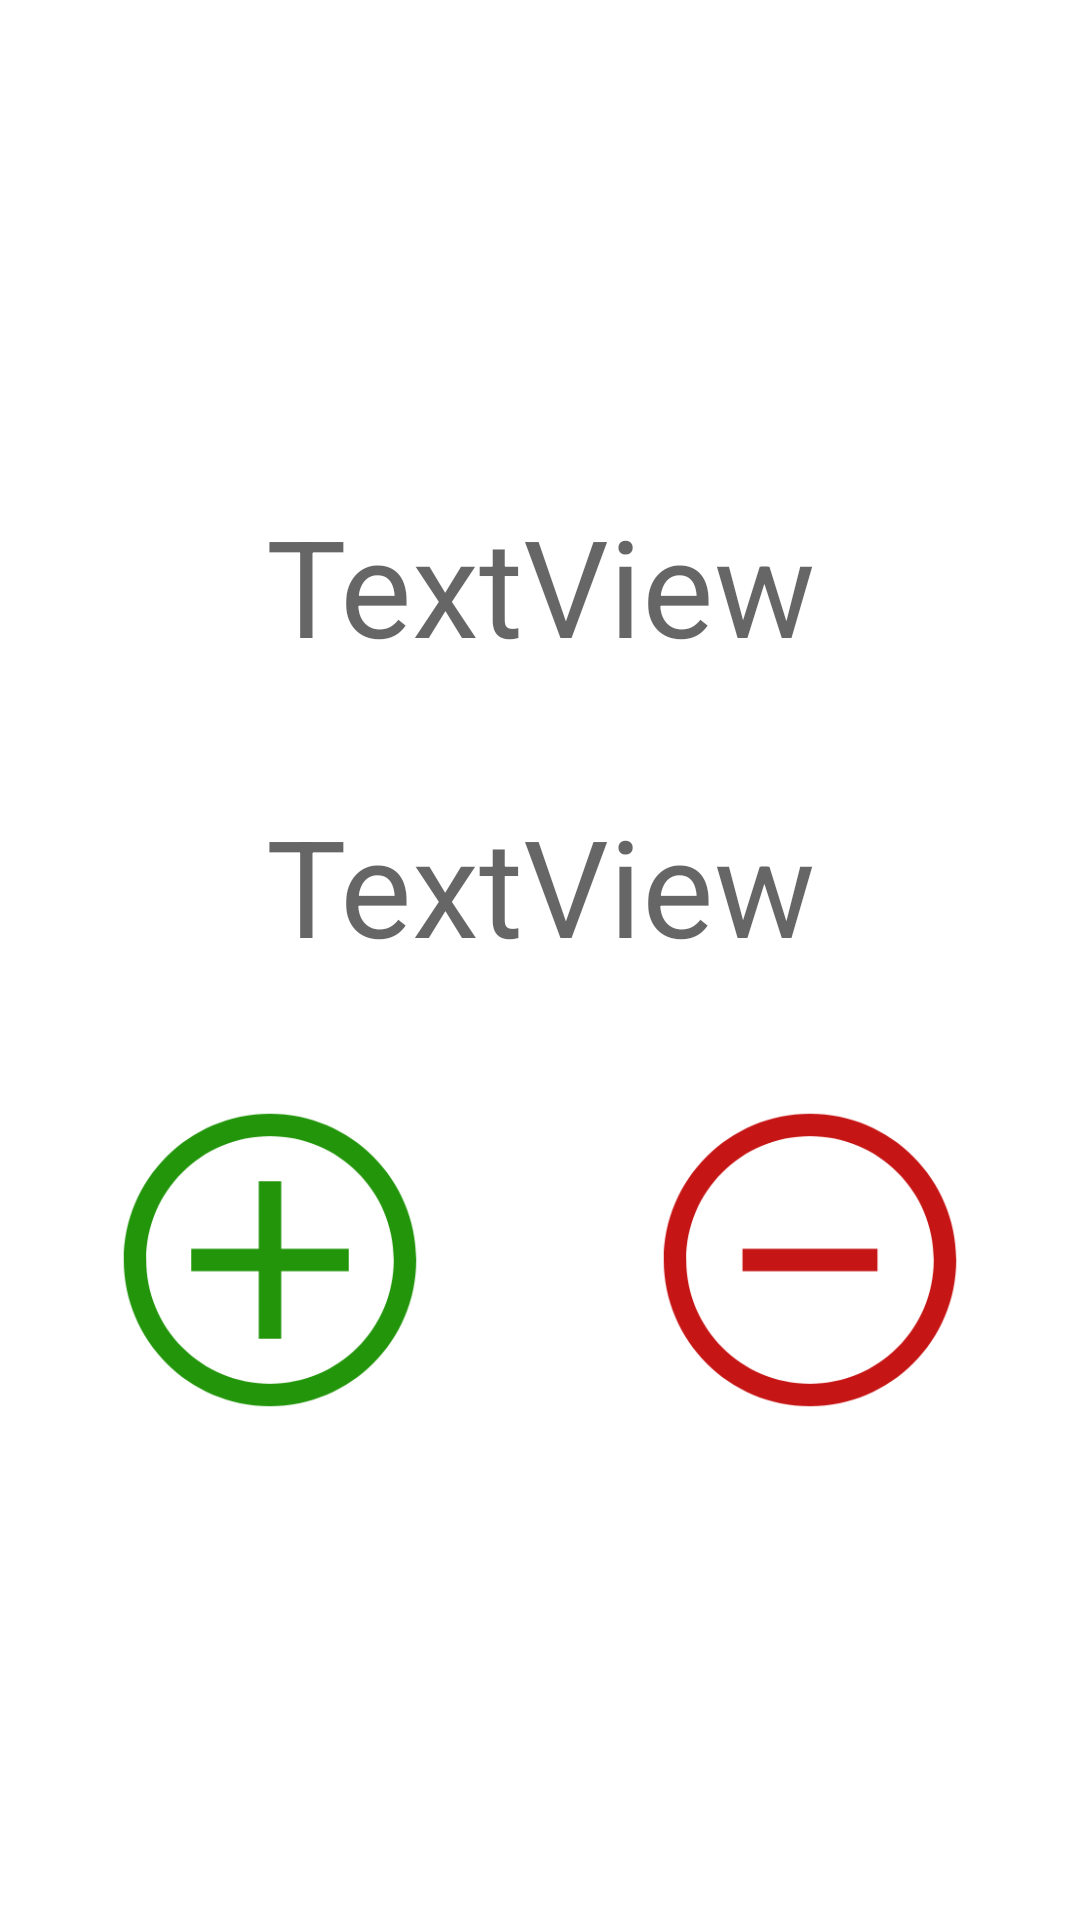

Named icons in this screenshot (1080 × 1920) and their centers, [x,y]:
minus: [810,1260]
plus: [270,1260]
